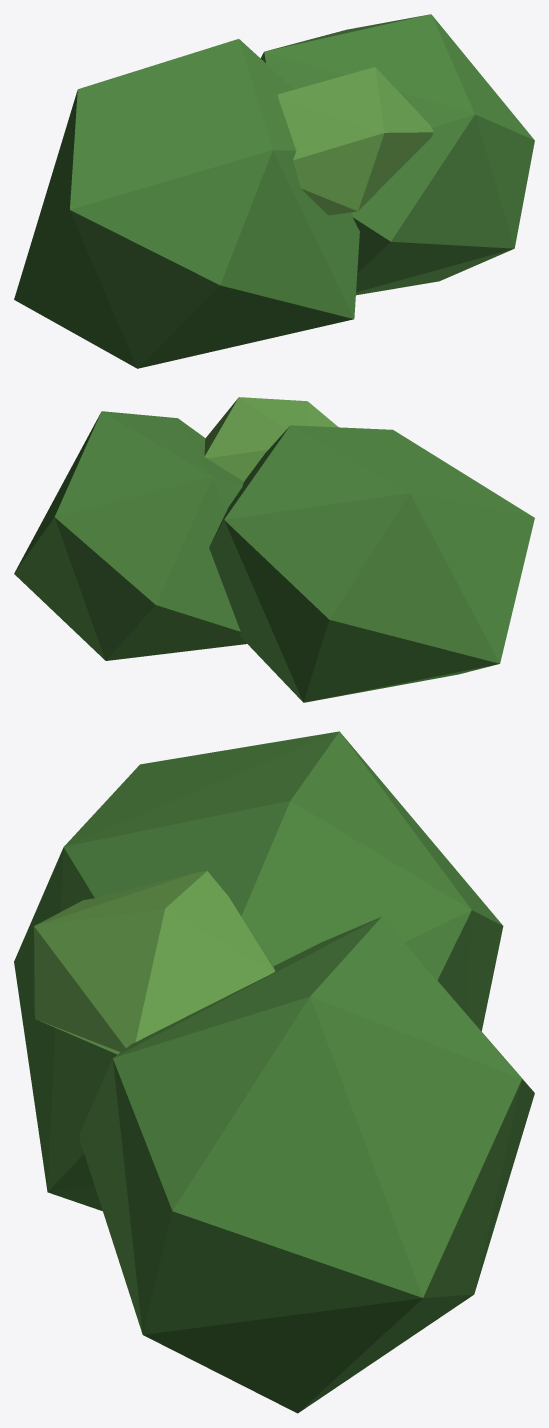
The model's file is deco_bush.glb.
3 views of the same model, one above another, from view 1: azimuth 30°, elevation 25°; view 2: azimuth 150°, elevation 25°; view 3: azimuth 270°, elevation 25° (orthographic). The views are drawn at different scales.
Parts seen in each view (by area): view 1: deco_bush_mesh; view 2: deco_bush_mesh; view 3: deco_bush_mesh.
Boxes of the visible parts, bbox=[...] form: deco_bush_mesh: bbox=[14, 14, 534, 368]; deco_bush_mesh: bbox=[14, 397, 534, 702]; deco_bush_mesh: bbox=[14, 731, 534, 1413].
Bounding box in the file's own units: 0.2044 × 0.1184 × 0.122.
